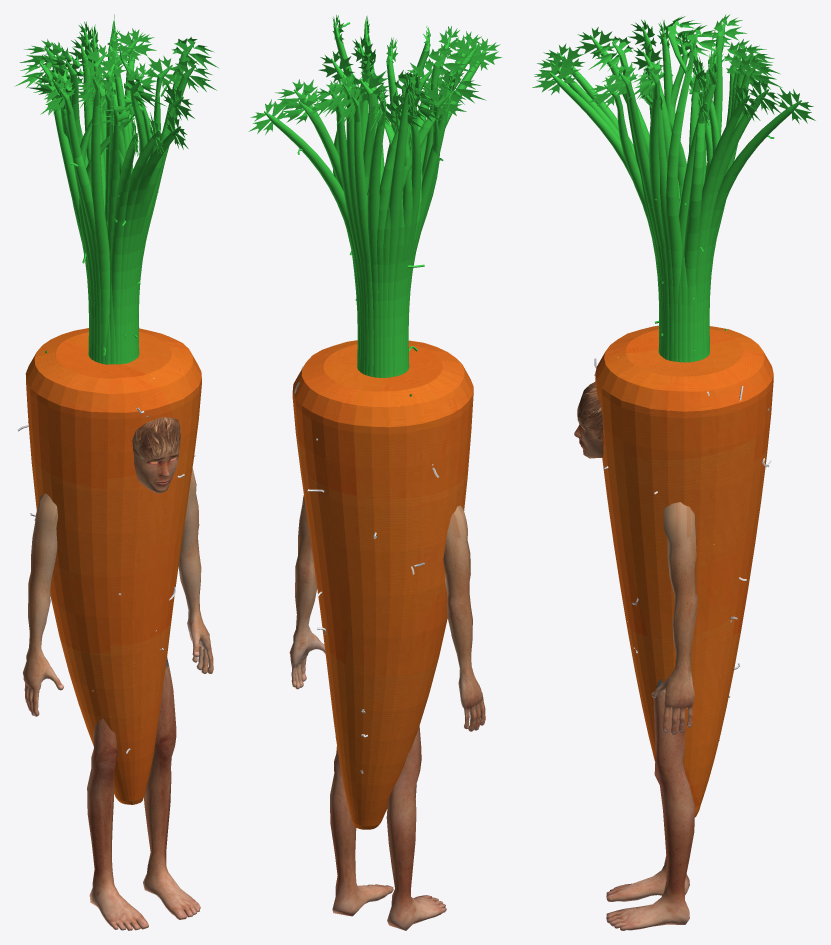
File: Marty_carotte.fbx
The picture shows the model from 3 angles, left to right: view 1: azimuth 30°, elevation 25°; view 2: azimuth 150°, elevation 25°; view 3: azimuth 270°, elevation 25°; orthographic projection. The views are drawn at different scales.
Parts seen in each view (by area): view 1: Cylinder, H_DDS_LowRes.003, H_DDS_LowRes.001, H_DDS_LowRes.002, Mesh; view 2: Cylinder, H_DDS_LowRes.003, H_DDS_LowRes.001, Mesh; view 3: Cylinder, H_DDS_LowRes.003, H_DDS_LowRes.001, H_DDS_LowRes.002.
Part boxes in pixels (x1=…): Cylinder: x1=14, y1=14, x2=219, y2=804; H_DDS_LowRes.003: x1=87, y1=657, x2=200, y2=930; H_DDS_LowRes.001: x1=23, y1=468, x2=213, y2=716; H_DDS_LowRes.002: x1=132, y1=417, x2=180, y2=493; Mesh: x1=17, y1=41, x2=204, y2=753; Cylinder: x1=248, y1=15, x2=502, y2=829; H_DDS_LowRes.003: x1=330, y1=726, x2=446, y2=930; H_DDS_LowRes.001: x1=289, y1=495, x2=485, y2=731; Mesh: x1=294, y1=22, x2=443, y2=773; Cylinder: x1=532, y1=14, x2=815, y2=817; H_DDS_LowRes.003: x1=606, y1=679, x2=694, y2=930; H_DDS_LowRes.001: x1=651, y1=502, x2=697, y2=734; H_DDS_LowRes.002: x1=574, y1=382, x2=603, y2=458.
Size of the model in its own units: 169 by 771 by 229.
Materials: 5 (2 with a texture image).
